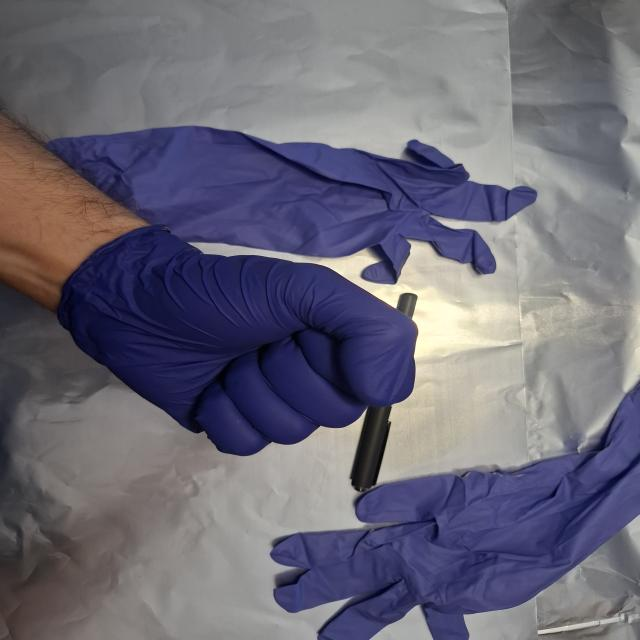glove_on: (55, 221, 423, 459)
